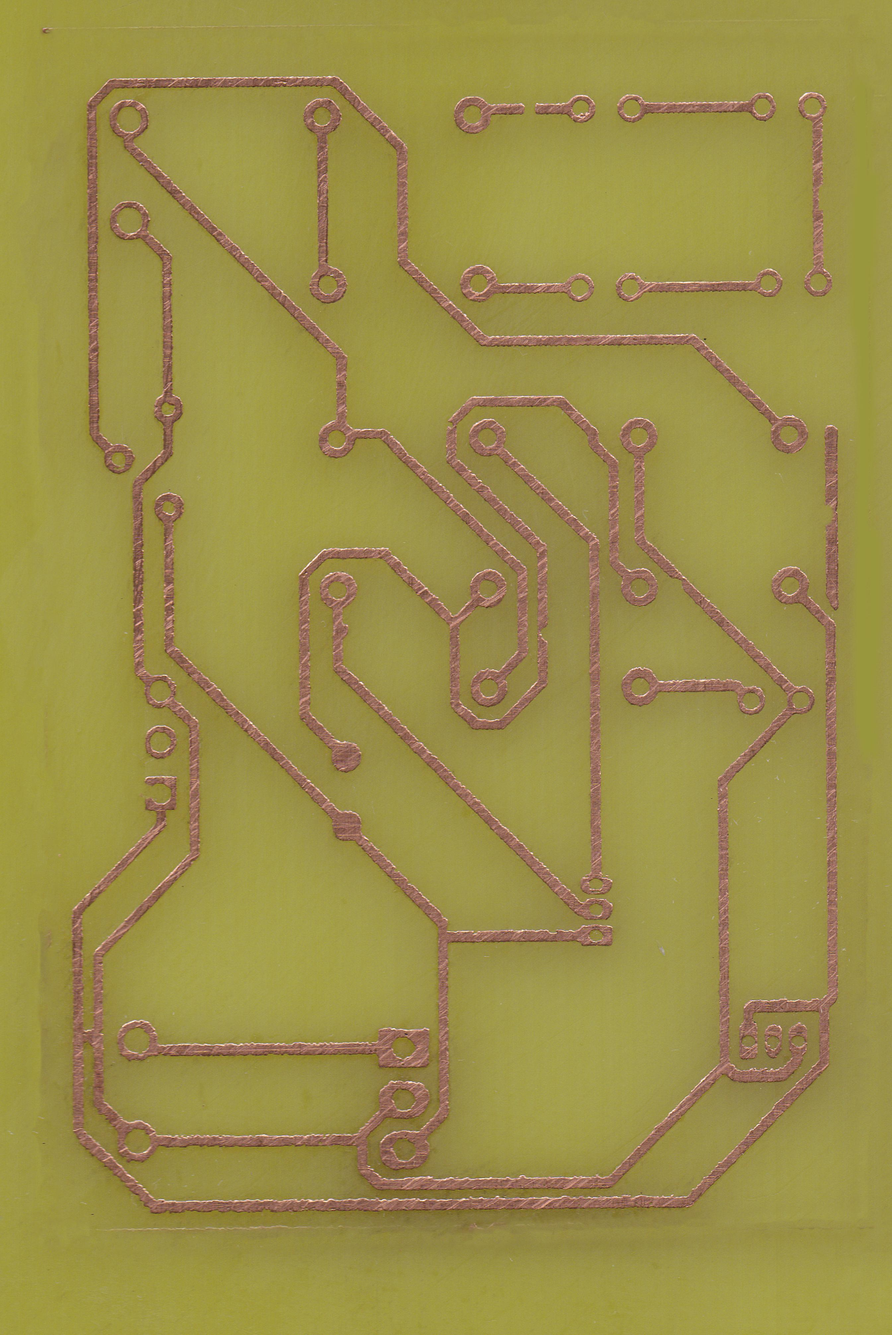missing_hole: (141, 774, 181, 814)
mouse_bite: (664, 569, 693, 598), (813, 177, 828, 224), (536, 619, 552, 647)
open_circuit: (513, 96, 549, 121)
short: (70, 1020, 108, 1053)
spur: (332, 617, 353, 645)
spurious_copper: (821, 420, 843, 616)
